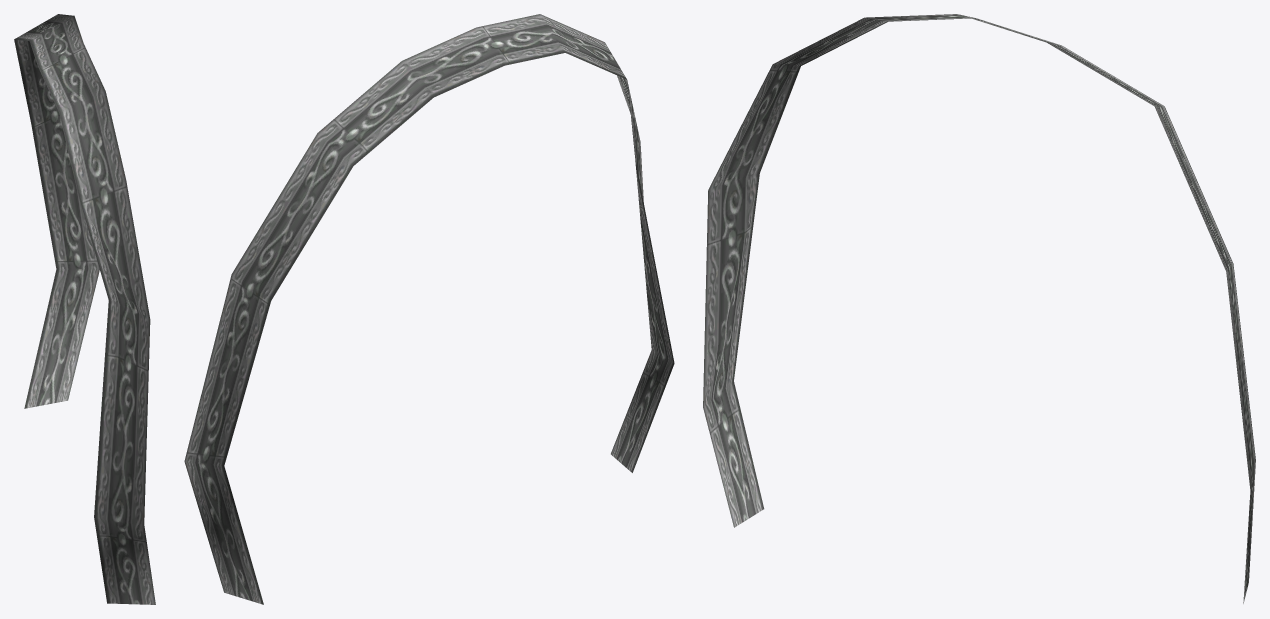
The model's file is EKH_THRONE_PS_TH_METAL_TRIM0298.fbx.
The picture shows the model from 3 angles, left to right: view 1: azimuth 30°, elevation 25°; view 2: azimuth 150°, elevation 25°; view 3: azimuth 270°, elevation 25°; orthographic projection. The views are drawn at different scales.
Parts seen in each view (by area): view 1: EKH_THRONE_PS_TH_METAL_TRIM0298; view 2: EKH_THRONE_PS_TH_METAL_TRIM0298; view 3: EKH_THRONE_PS_TH_METAL_TRIM0298.
Part boxes in pixels (box(x1,y1,x2,y2)): EKH_THRONE_PS_TH_METAL_TRIM0298: box(14, 14, 155, 604); EKH_THRONE_PS_TH_METAL_TRIM0298: box(184, 14, 674, 604); EKH_THRONE_PS_TH_METAL_TRIM0298: box(703, 14, 1255, 603).
Bounding box in the file's own units: 13454 × 25686 × 24314.
Materials: 1 (1 with a texture image).
